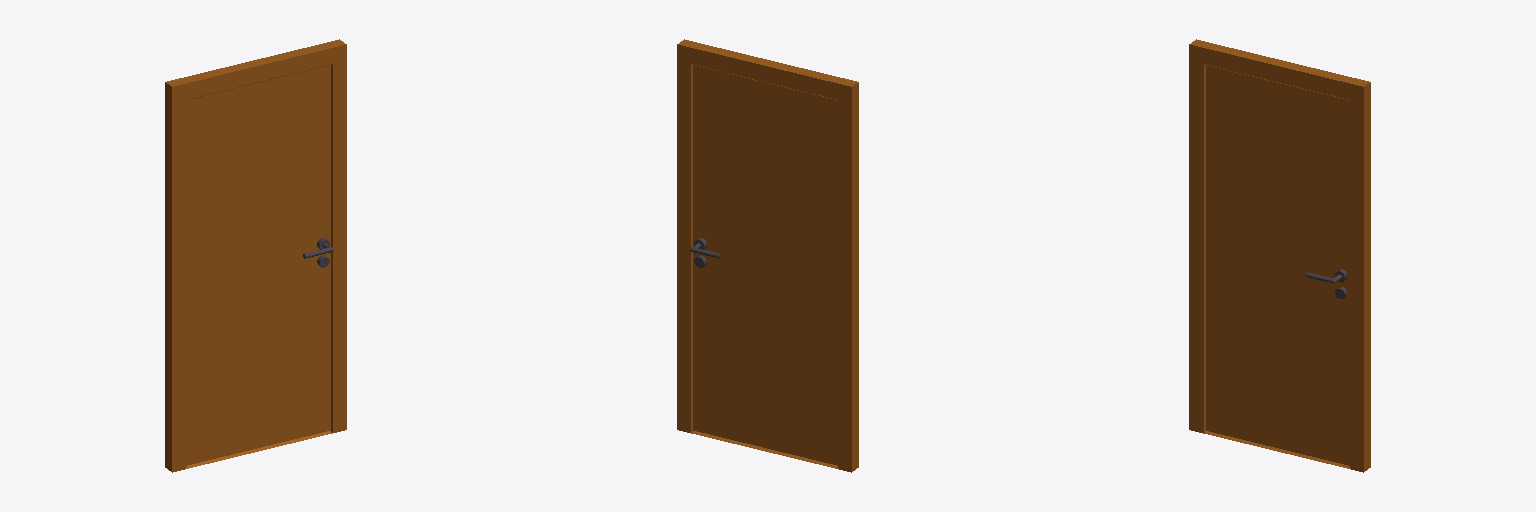
Rendered from deur.obj.
3 views of the same model, side by side, from view 1: azimuth 30°, elevation 25°; view 2: azimuth 150°, elevation 25°; view 3: azimuth 330°, elevation 25° (orthographic).
Parts seen in each view (by area): view 1: Cube_Cube.001; view 2: Cube_Cube.001; view 3: Cube_Cube.001.
Boxes of the visible parts, x1=… form: Cube_Cube.001: x1=165, y1=39, x2=346, y2=472; Cube_Cube.001: x1=677, y1=39, x2=858, y2=472; Cube_Cube.001: x1=1189, y1=39, x2=1370, y2=472.
Bounding box in the file's own units: 2.08 × 4.39 × 0.4875.